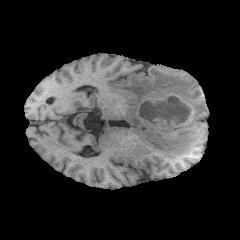glioma: (120, 67, 208, 157)
